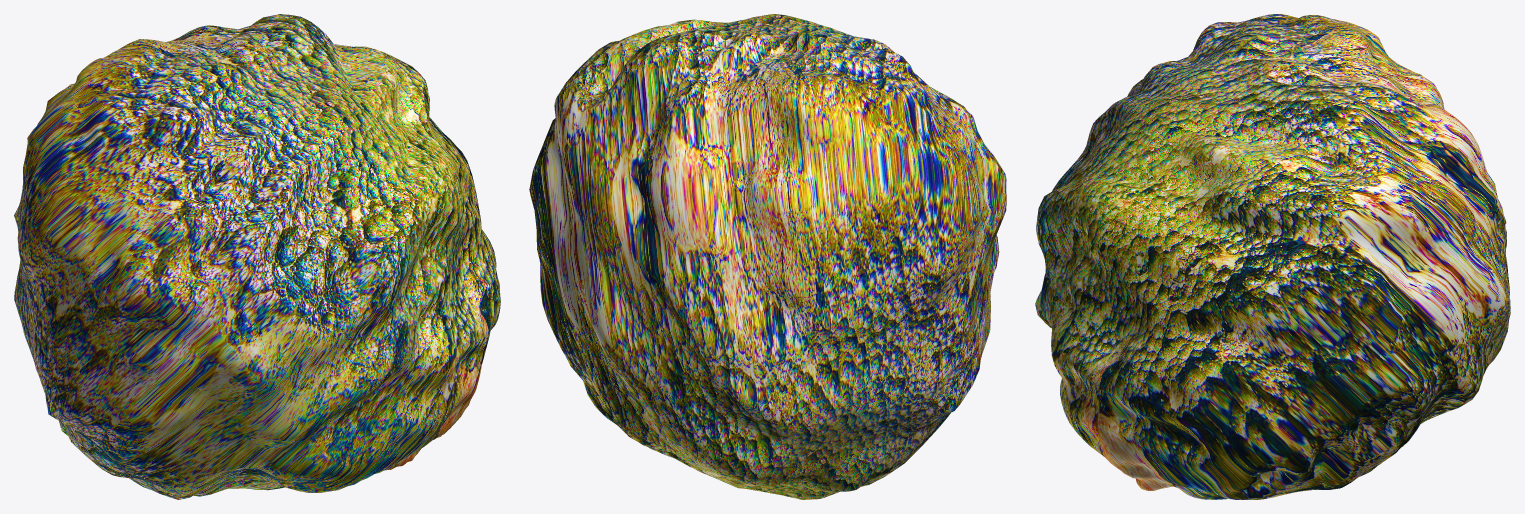
The model's file is UraniumFBX.fbx.
The picture shows the model from 3 angles, left to right: view 1: azimuth 30°, elevation 25°; view 2: azimuth 150°, elevation 25°; view 3: azimuth 270°, elevation 25°; orthographic projection. The views are drawn at different scales.
Visible parts, largest first — view 1: pSphere2; view 2: pSphere2; view 3: pSphere2.
Part boxes in pixels (box(x1,y1,x2,y2)): pSphere2: box(14, 14, 500, 499); pSphere2: box(529, 14, 1006, 499); pSphere2: box(1035, 14, 1510, 499).
Bounding box in the file's own units: 9.59 × 9.43 × 9.64.
